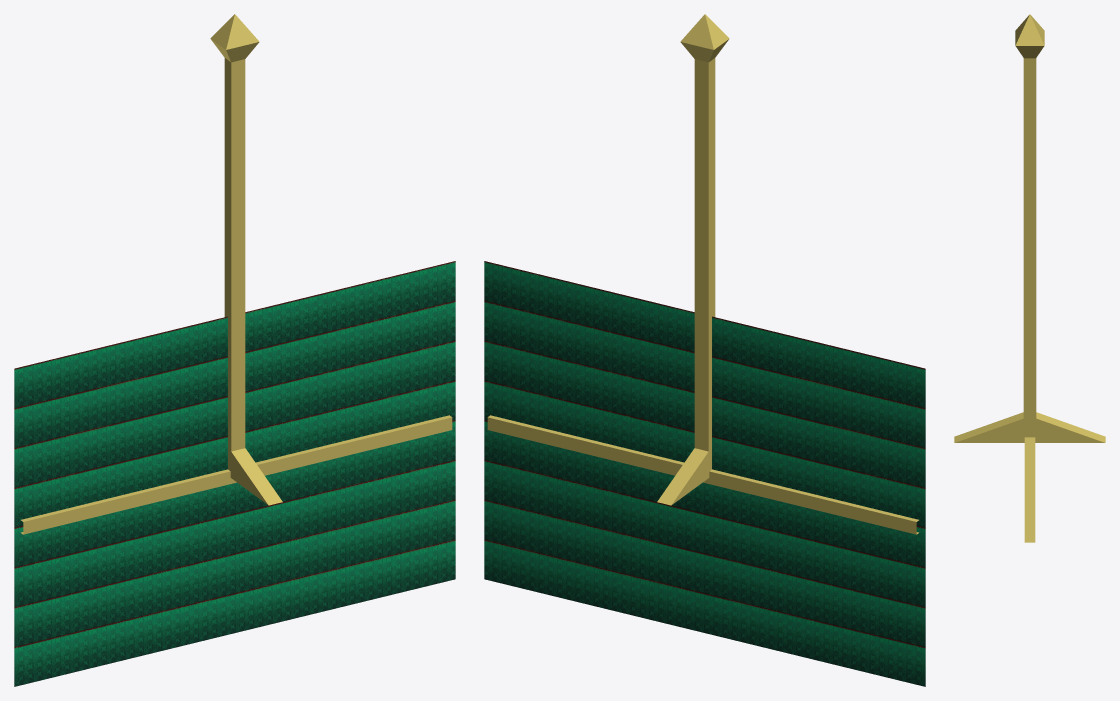
Rendered from 4452wall_r.gltf.
The picture shows the model from 3 angles, left to right: view 1: azimuth 30°, elevation 25°; view 2: azimuth 150°, elevation 25°; view 3: azimuth 270°, elevation 25°; orthographic projection. The views are drawn at different scales.
Parts seen in each view (by area): view 1: 4452wall_r; view 2: 4452wall_r; view 3: 4452wall_r.
Boxes of the visible parts, box(x1,y1,x2,y2) form: 4452wall_r: box(14, 14, 455, 686); 4452wall_r: box(484, 14, 925, 686); 4452wall_r: box(954, 14, 1105, 542).
Size of the model in its own units: 1.83 by 2.45 by 0.5869.
Materials: 2 (1 with a texture image).
